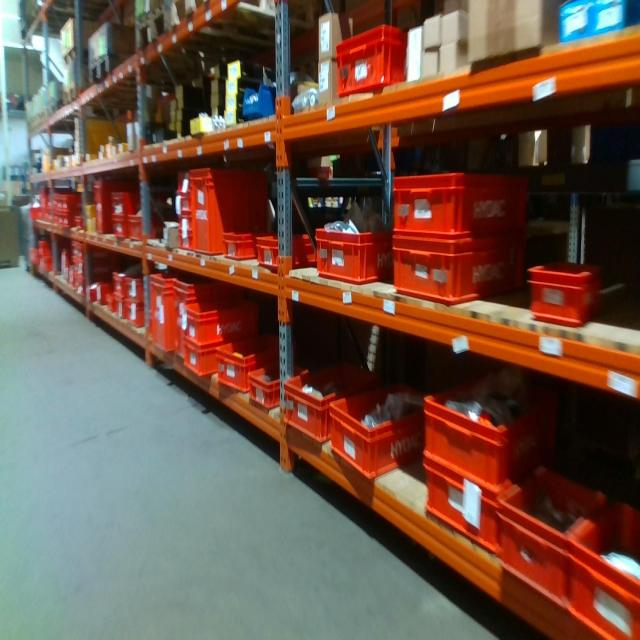pallet: (168, 2, 294, 37), (133, 1, 169, 64), (92, 55, 132, 91), (59, 45, 88, 69), (63, 83, 88, 109)
small_load_carrier: (418, 356, 558, 496), (491, 462, 612, 606), (388, 158, 532, 241), (563, 481, 639, 638), (391, 230, 528, 308), (328, 378, 428, 479), (281, 353, 381, 446), (191, 166, 265, 257), (423, 462, 498, 550), (334, 15, 412, 96), (523, 264, 602, 329), (217, 322, 288, 394), (180, 288, 264, 342), (169, 276, 216, 368), (316, 227, 387, 284), (91, 176, 143, 238), (257, 226, 317, 271), (153, 269, 180, 350), (247, 367, 291, 416), (180, 340, 222, 379), (220, 229, 257, 268), (127, 265, 155, 301), (125, 213, 150, 248), (93, 274, 111, 314), (111, 187, 134, 218), (109, 211, 127, 245), (175, 166, 195, 195), (125, 302, 145, 329), (111, 269, 128, 297), (176, 196, 195, 217), (111, 297, 126, 323), (176, 232, 192, 255), (176, 217, 192, 232)
